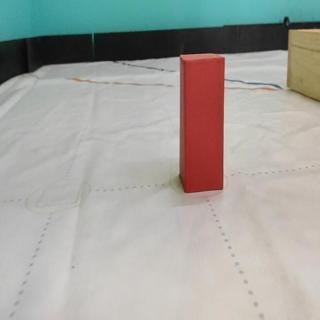redbox: (177, 53, 225, 195)
